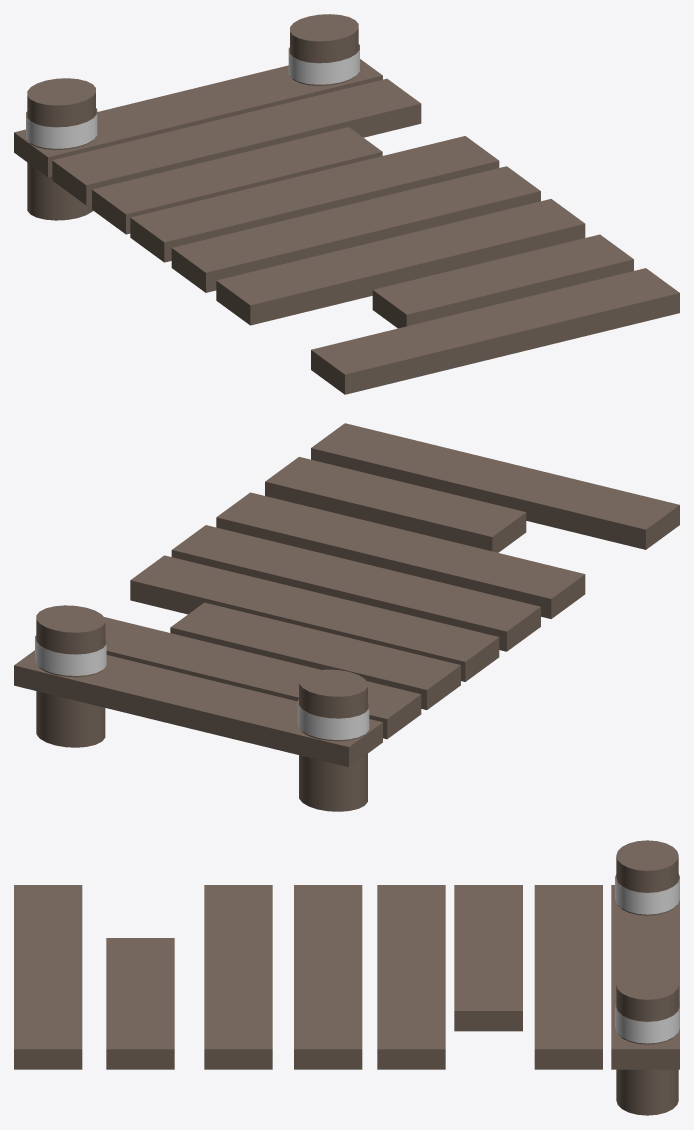
The model's file is dock.fbx.
3 views of the same model, one above another, from view 1: azimuth 30°, elevation 25°; view 2: azimuth 150°, elevation 25°; view 3: azimuth 270°, elevation 25° (orthographic).
Parts seen in each view (by area): view 1: group3; view 2: group3; view 3: group3.
Part boxes in pixels (left/top/right/bottom): group3: left=14, top=14, right=679, bottom=394; group3: left=14, top=423, right=679, bottom=811; group3: left=14, top=840, right=679, bottom=1115.
Bounding box in the file's own units: 5.7 × 1.86 × 9.73.
